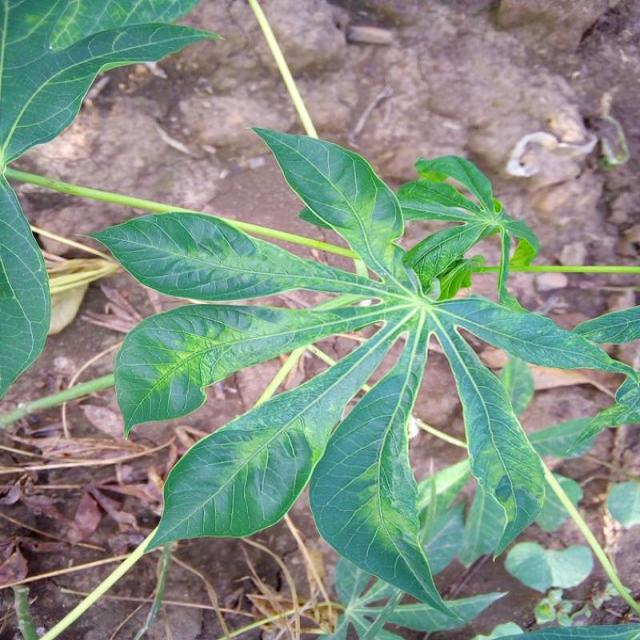cassava leaf: (74, 124, 638, 626), (250, 124, 406, 284)
